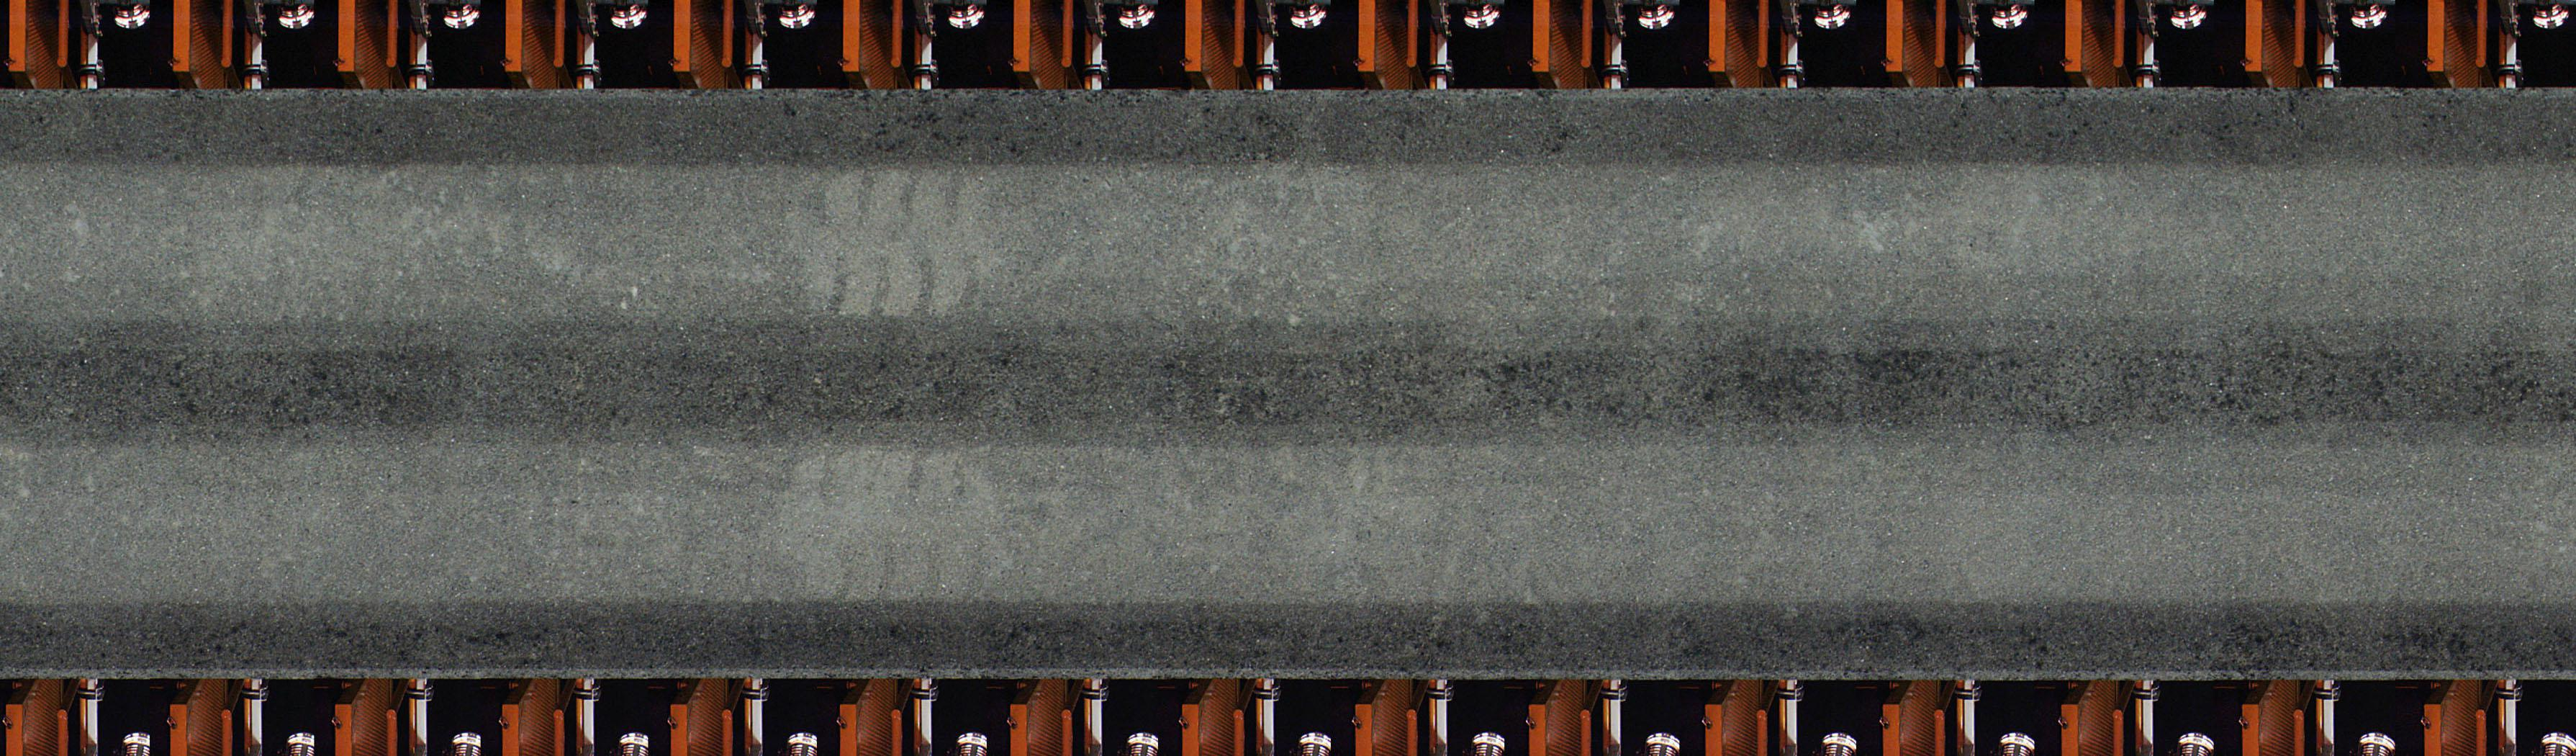concrete: (0, 90, 2569, 684)
